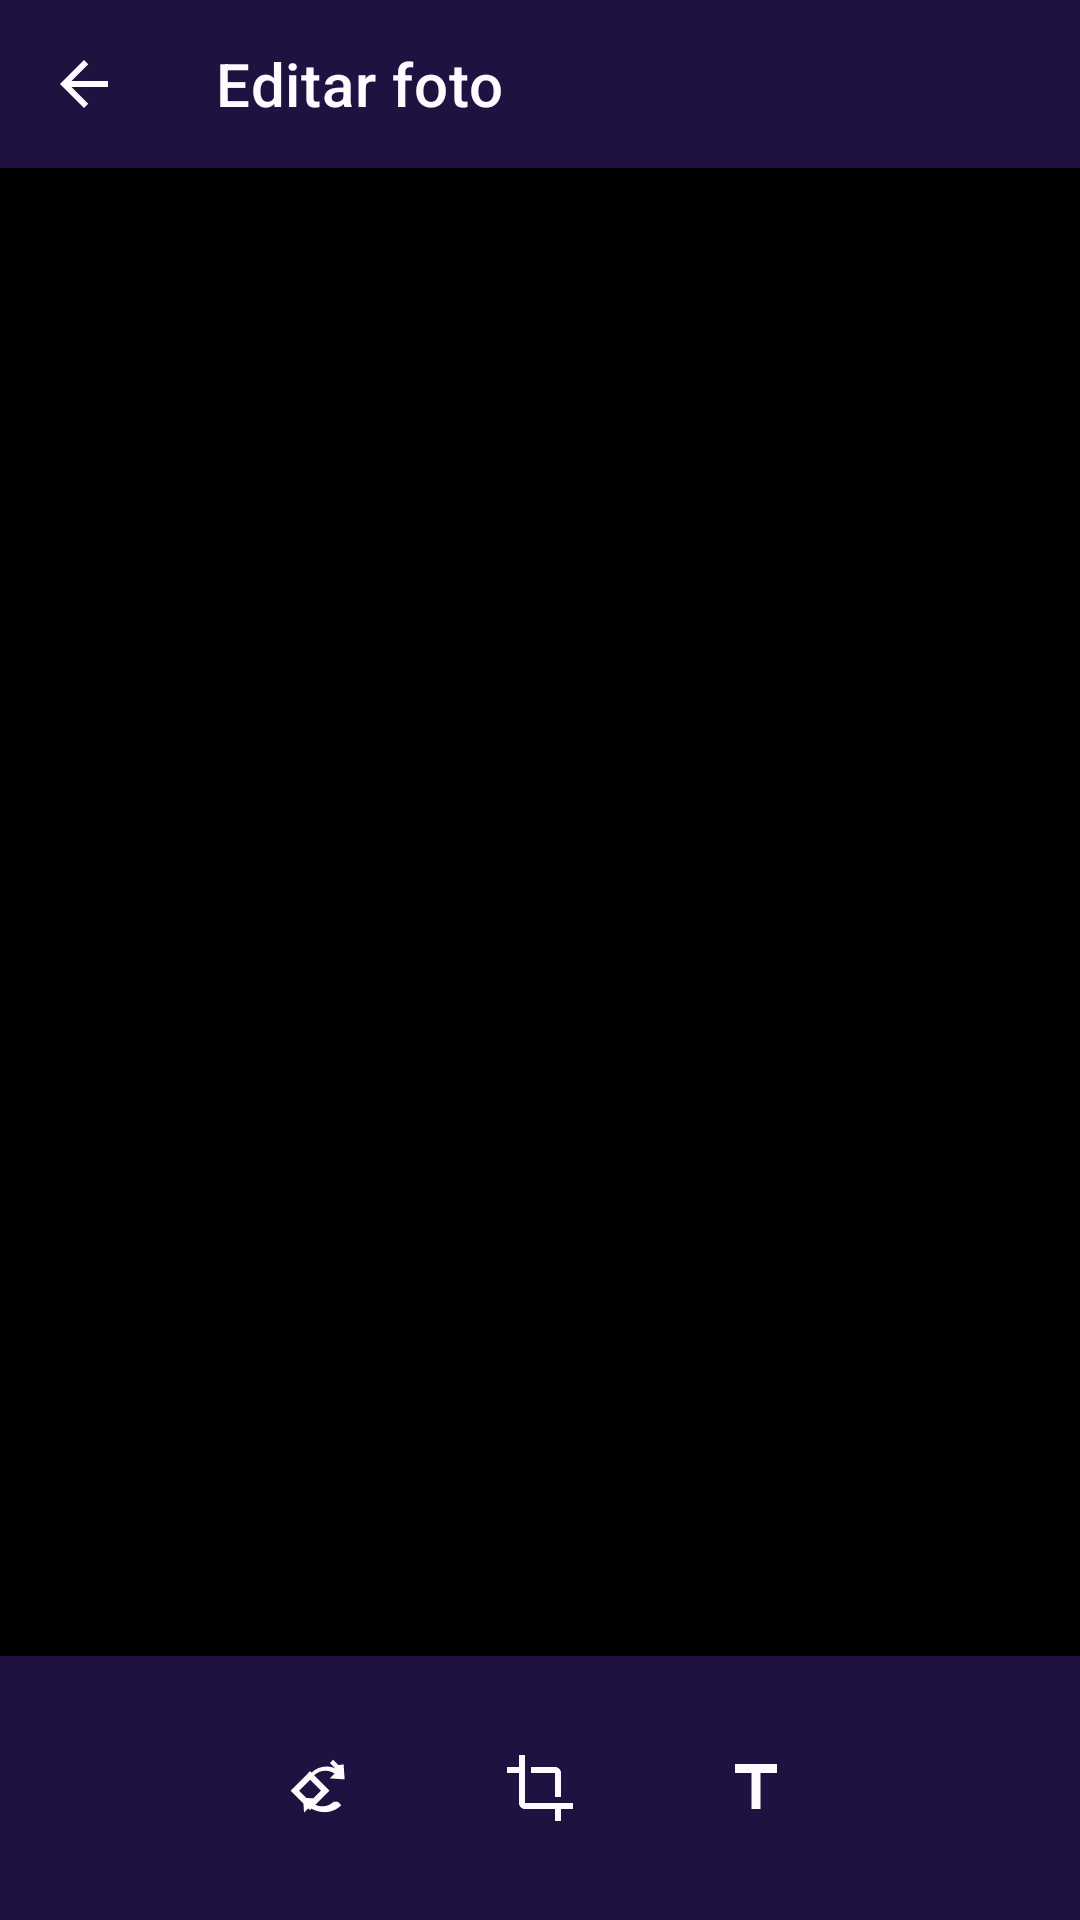

Icons on this 1080px x 1920px Android screen, each with its box as {"left": x1, "top": y1, "right": x2, "bottom": y2}:
Adicionar texto: {"left": 735, "top": 1764, "right": 777, "bottom": 1809}
Cortar: {"left": 507, "top": 1755, "right": 573, "bottom": 1821}
Girar: {"left": 290, "top": 1760, "right": 345, "bottom": 1813}
